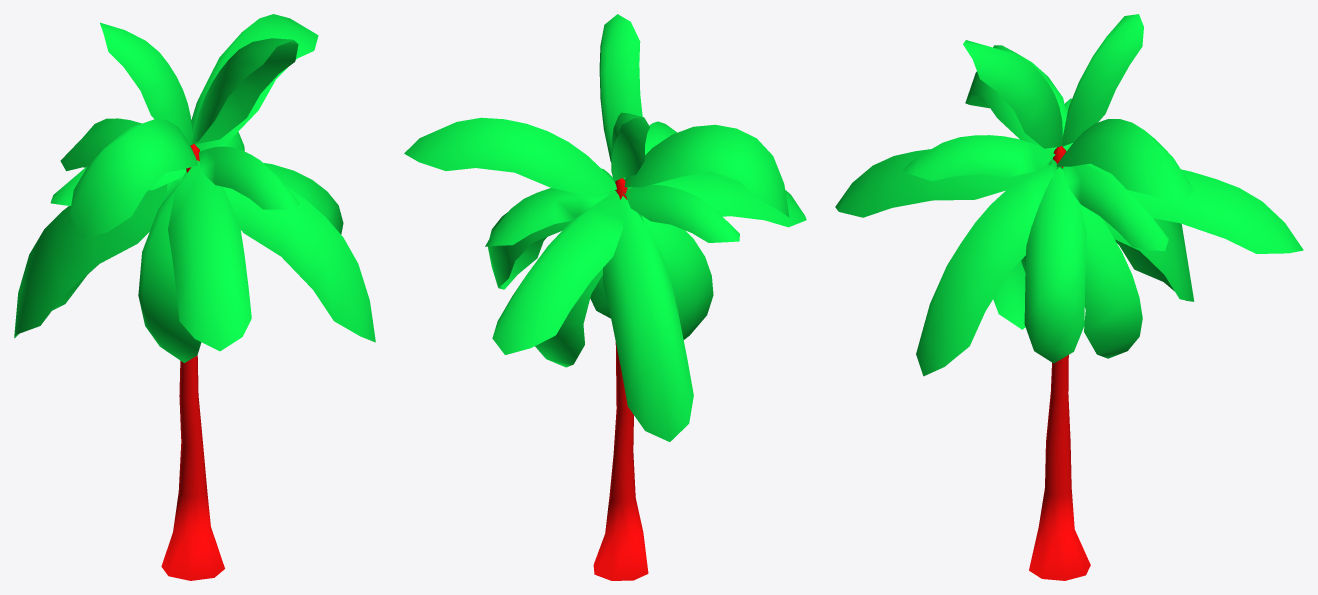
Rendered from Banana_Medium_2018.FBX.
3 renders of one model, left to right at view 1: azimuth 30°, elevation 25°; view 2: azimuth 150°, elevation 25°; view 3: azimuth 270°, elevation 25°, orthographic. The views are drawn at different scales.
Visible parts, largest first — view 1: Banana-Medium_Leafs_LOD0, Banana-Medium_Trunk_LOD0; view 2: Banana-Medium_Leafs_LOD0, Banana-Medium_Trunk_LOD0; view 3: Banana-Medium_Leafs_LOD0, Banana-Medium_Trunk_LOD0.
Boxes of the visible parts, left/top/right/bottom form: Banana-Medium_Leafs_LOD0: left=14, top=14, right=375, bottom=362; Banana-Medium_Trunk_LOD0: left=161, top=144, right=224, bottom=580; Banana-Medium_Leafs_LOD0: left=404, top=14, right=806, bottom=441; Banana-Medium_Trunk_LOD0: left=593, top=178, right=648, bottom=580; Banana-Medium_Leafs_LOD0: left=835, top=14, right=1303, bottom=376; Banana-Medium_Trunk_LOD0: left=1029, top=146, right=1090, bottom=580.
Size of what is drawn, in the model's own units: 33.69 by 55.32 by 42.78.
